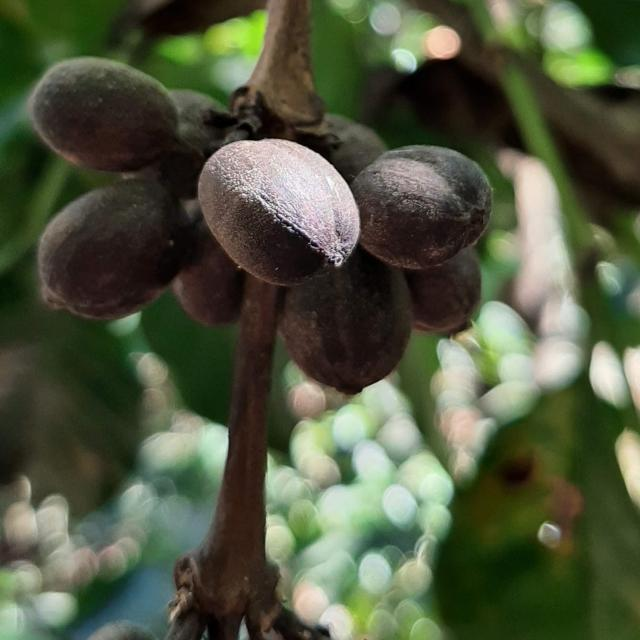red: (198, 138, 361, 286), (28, 57, 231, 171), (36, 170, 183, 320), (278, 247, 413, 394), (351, 145, 492, 269), (27, 56, 177, 171), (404, 246, 482, 334), (171, 232, 243, 327), (326, 114, 386, 183)
